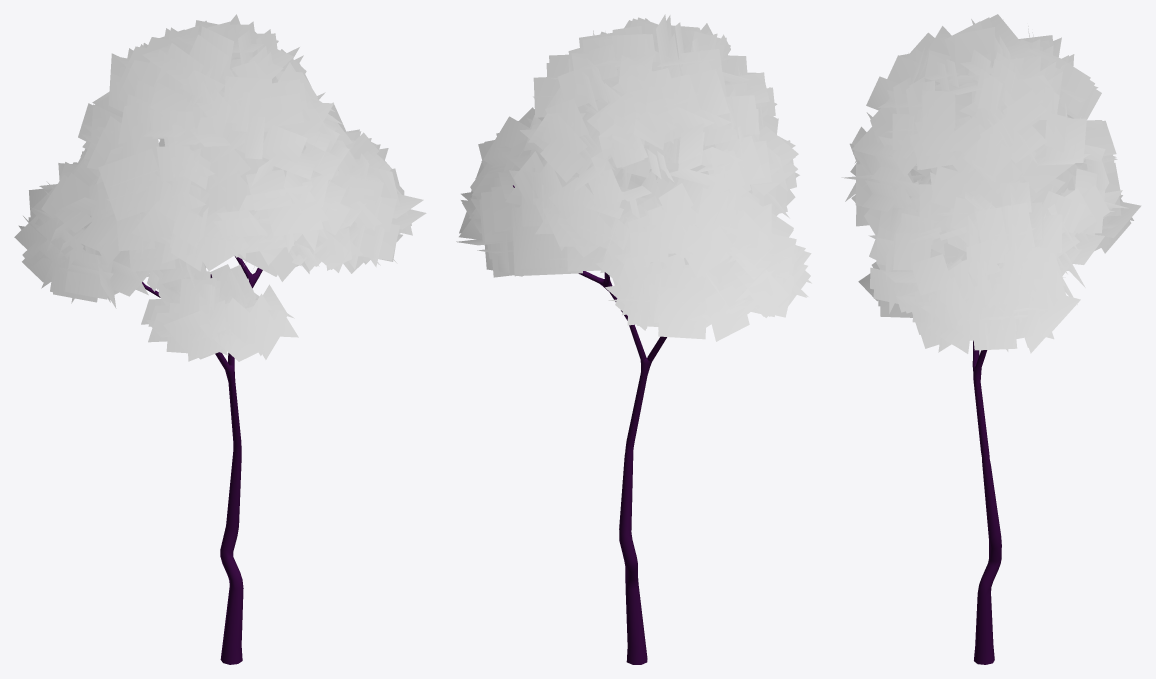
Rendered from m_TreeHigh1_LOD0.fbx.
3 views of the same model, side by side, from view 1: azimuth 30°, elevation 25°; view 2: azimuth 150°, elevation 25°; view 3: azimuth 270°, elevation 25° (orthographic). The views are drawn at different scales.
Parts seen in each view (by area): view 1: TreeHigh1_LOD0; view 2: TreeHigh1_LOD0; view 3: TreeHigh1_LOD0.
Boxes of the visible parts, x1,y1,x2,y2 form: TreeHigh1_LOD0: (14, 14, 426, 664); TreeHigh1_LOD0: (456, 14, 811, 664); TreeHigh1_LOD0: (841, 14, 1141, 664).
Bounding box in the file's own units: 1943 × 3364 × 1472.
